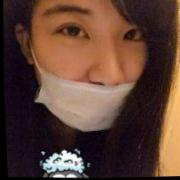WRONG: (25, 1, 158, 137)
